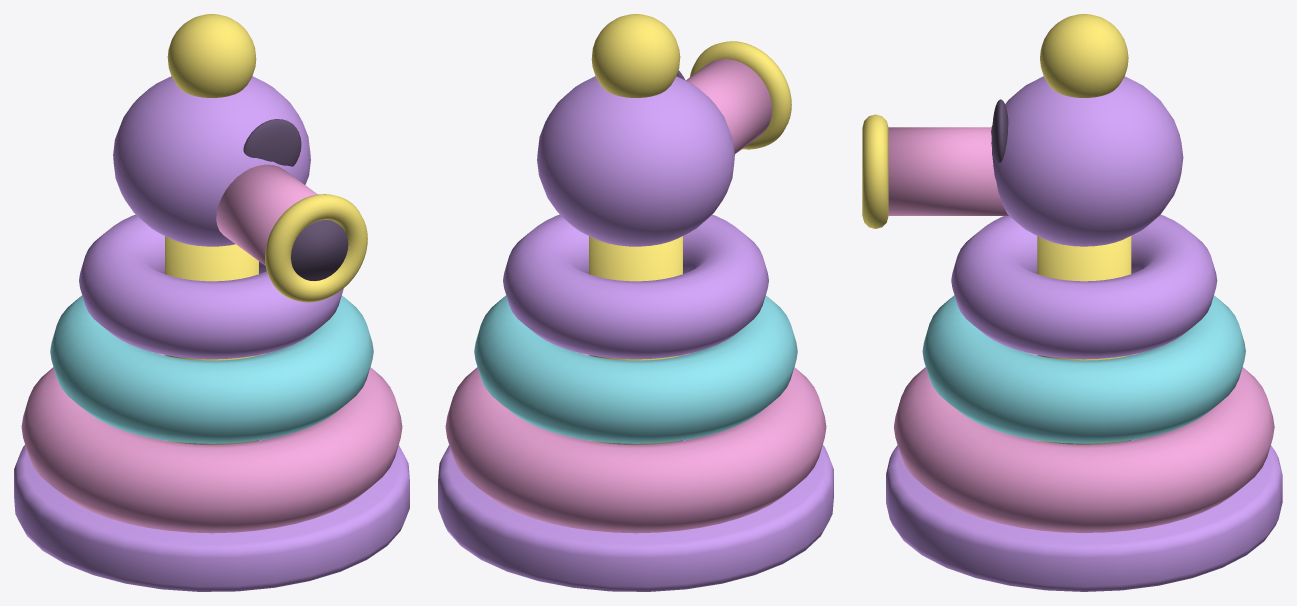
File: shooter_enemy.glb
The picture shows the model from 3 angles, left to right: view 1: azimuth 30°, elevation 25°; view 2: azimuth 150°, elevation 25°; view 3: azimuth 270°, elevation 25°; orthographic projection.
Visible parts, largest first — view 1: Body, Head, Cannon; view 2: Body, Head, Cannon; view 3: Body, Head, Cannon.
Boxes of the visible parts, x1,y1,x2,y2 form: Body: [14, 214, 409, 591]; Head: [113, 14, 310, 246]; Cannon: [216, 164, 367, 302]; Body: [438, 214, 833, 591]; Head: [537, 14, 734, 246]; Cannon: [686, 41, 791, 153]; Body: [886, 214, 1282, 591]; Head: [991, 14, 1183, 246]; Cannon: [862, 114, 1008, 228].
Size of the model in its own units: 0.76 by 1.04 by 0.805.
